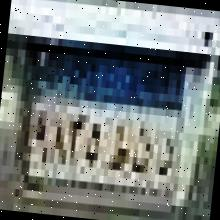1: (31, 108, 49, 165)
3: (64, 113, 85, 173)
5: (82, 118, 103, 168)
8: (46, 111, 70, 171)
Taa: (102, 119, 130, 183)
noon: (128, 122, 154, 182)
raa: (153, 130, 178, 186)
